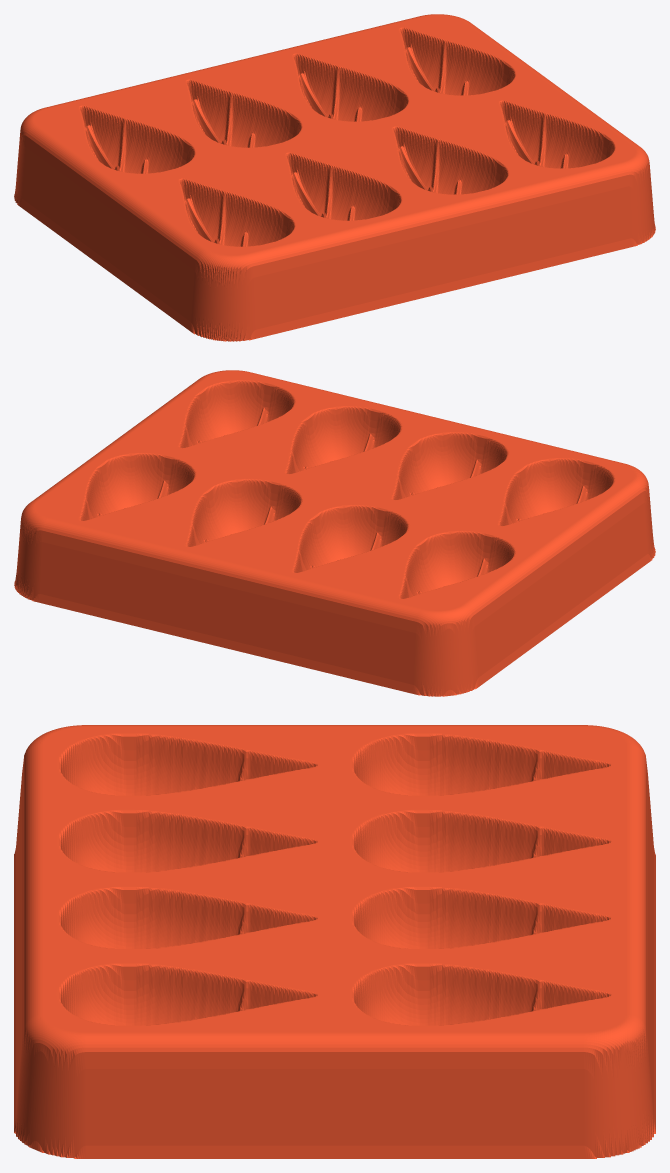
File: mold.glb
3 views of the same model, one above another, from view 1: azimuth 30°, elevation 25°; view 2: azimuth 150°, elevation 25°; view 3: azimuth 270°, elevation 25° (orthographic). The views are drawn at different scales.
Parts seen in each view (by area): view 1: geometry_0; view 2: geometry_0; view 3: geometry_0.
Part boxes in pixels (x1,y1,x2,y2): geometry_0: (14, 14, 655, 341); geometry_0: (14, 370, 655, 696); geometry_0: (14, 725, 655, 1158).
Size of the model in its own units: 0.0984 by 0.0159 by 0.0809.
